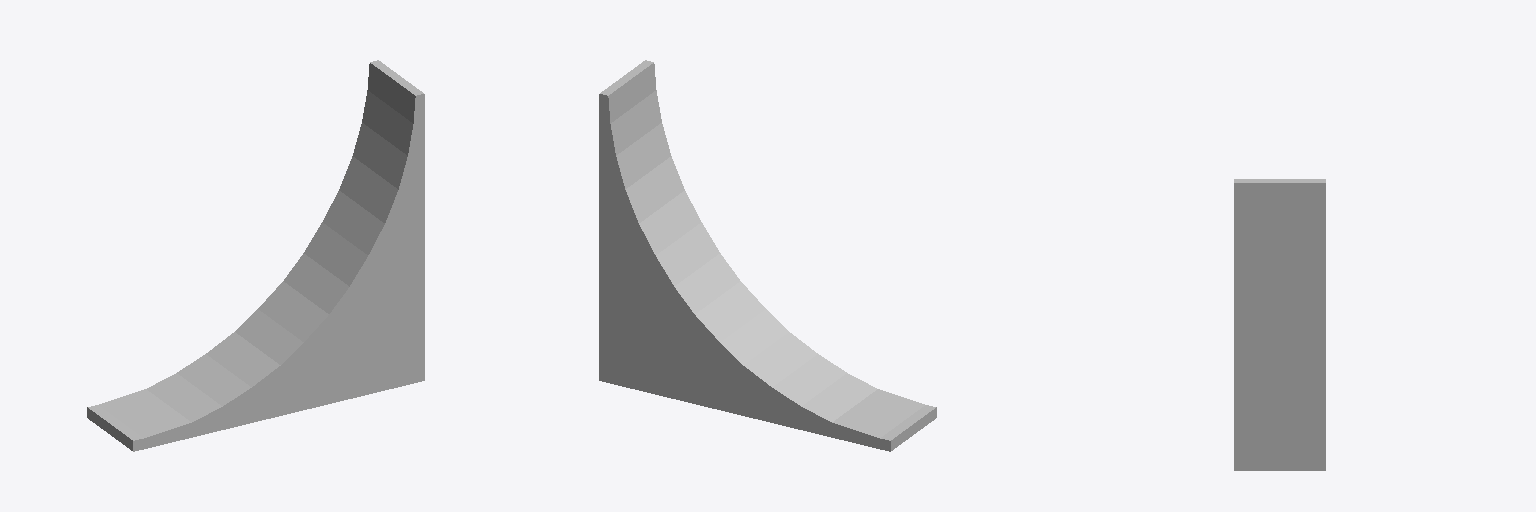
File: Ramp_higher_c.obj
3 renders of one model, left to right at view 1: azimuth 30°, elevation 25°; view 2: azimuth 150°, elevation 25°; view 3: azimuth 270°, elevation 25°, orthographic.
Parts seen in each view (by area): view 1: collisonbox_Cube; view 2: collisonbox_Cube; view 3: collisonbox_Cube.
Boxes of the visible parts, box(x1,y1,x2,y2) form: collisonbox_Cube: box(87, 60, 424, 451); collisonbox_Cube: box(599, 60, 936, 451); collisonbox_Cube: box(1234, 179, 1325, 470).
Size of the model in its own units: 7.33 by 6.91 by 2.01.